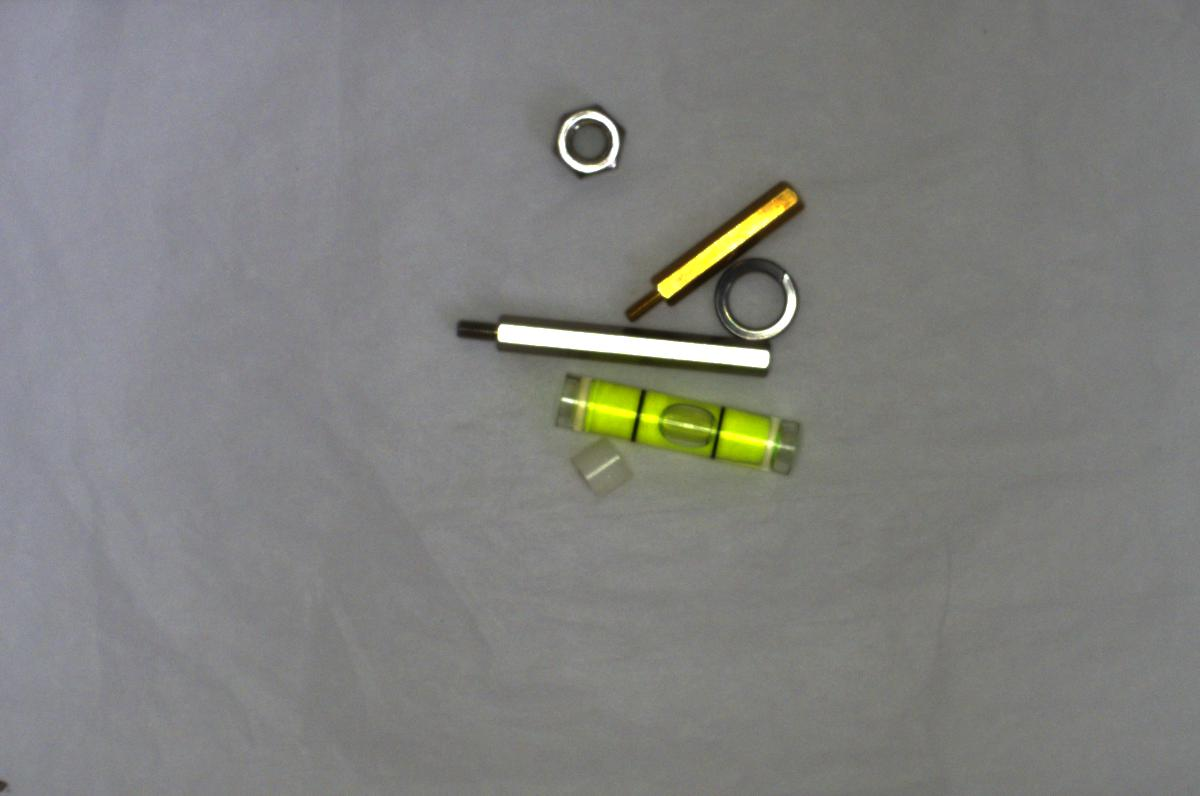Hexagon nut: (547, 105, 637, 185)
Hexagon pillar: (611, 179, 806, 323)
Hexagonal steel column: (445, 310, 781, 379)
Horizontal bubble: (548, 362, 807, 474)
Plastic cushion pillar: (560, 435, 640, 502)
Spring washer: (708, 258, 808, 345)
